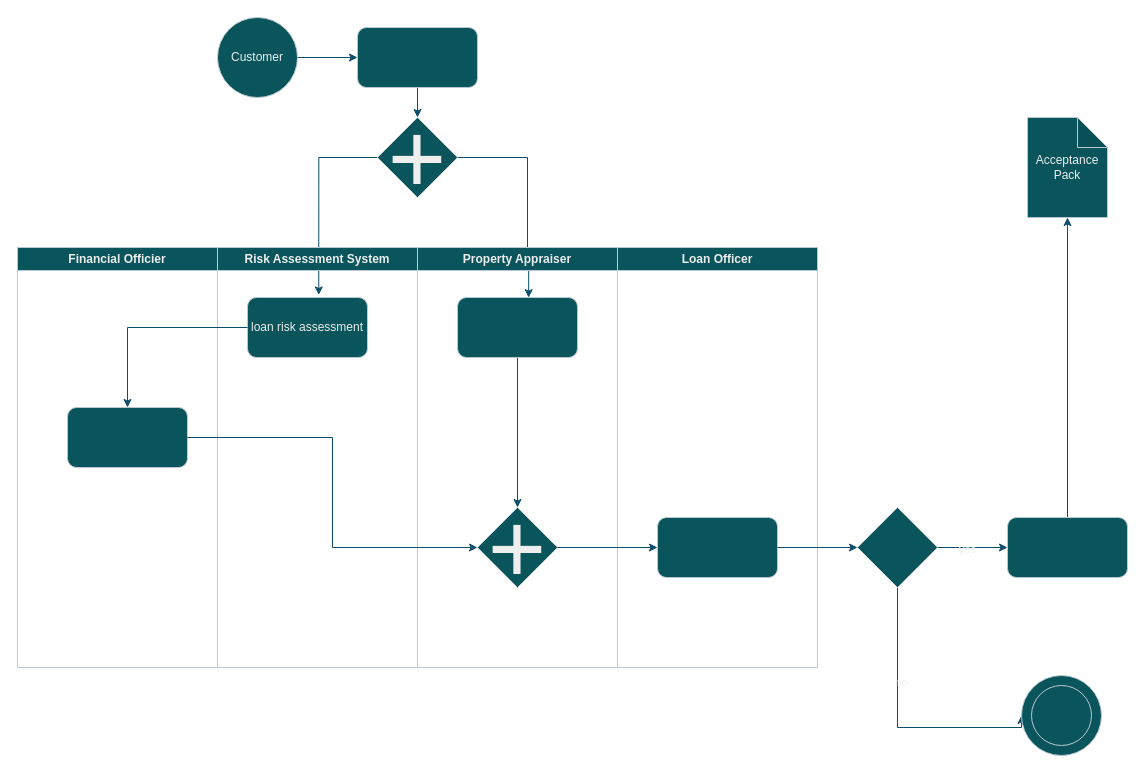
The diagram is 1145 pixels wide and 773 high, and some of its shapes have lost their labels. The shapes that lost their labels are listed below. From the top down, each one's centre as x and y in pixels, then its label:
At pixel 417 57: "assess for loan application".
At pixel 517 327: "create property proposal".
At pixel 127 437: "check credit history".
At pixel 717 547: "assess eligibility".
At pixel 1067 547: "prepare acceptance pack".
